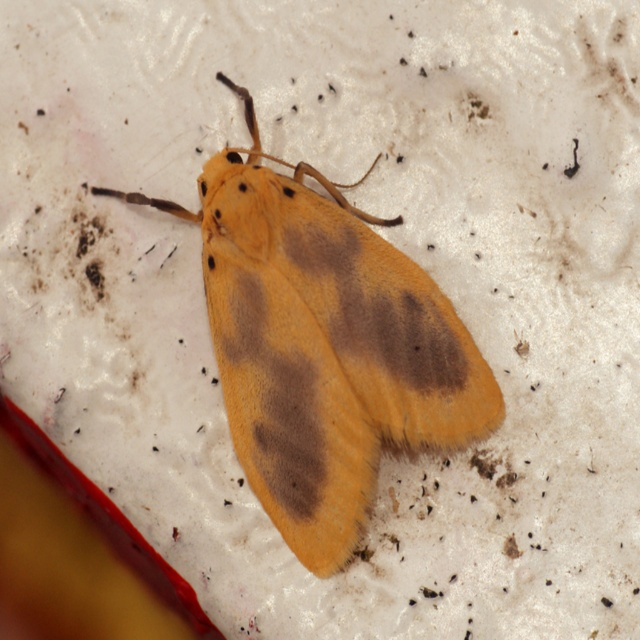Butterfly: (50, 112, 522, 585)
